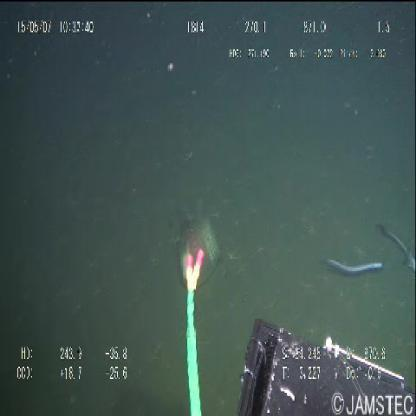Rác: (174, 214, 219, 288)
